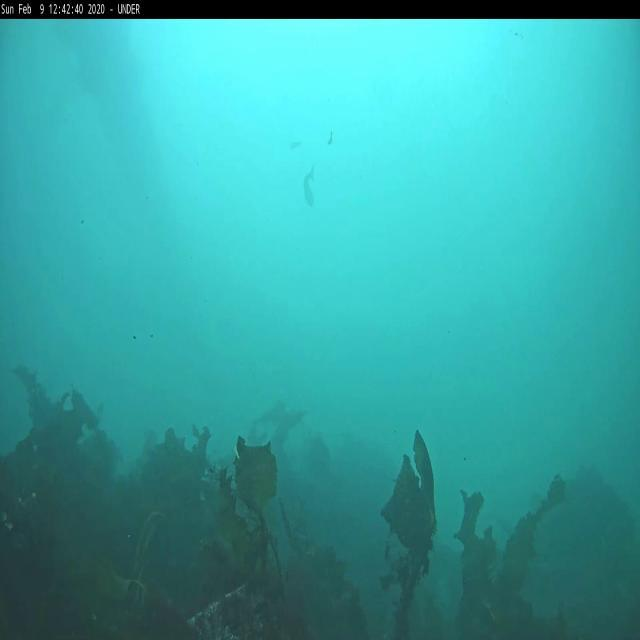fish: (302, 165, 314, 208)
